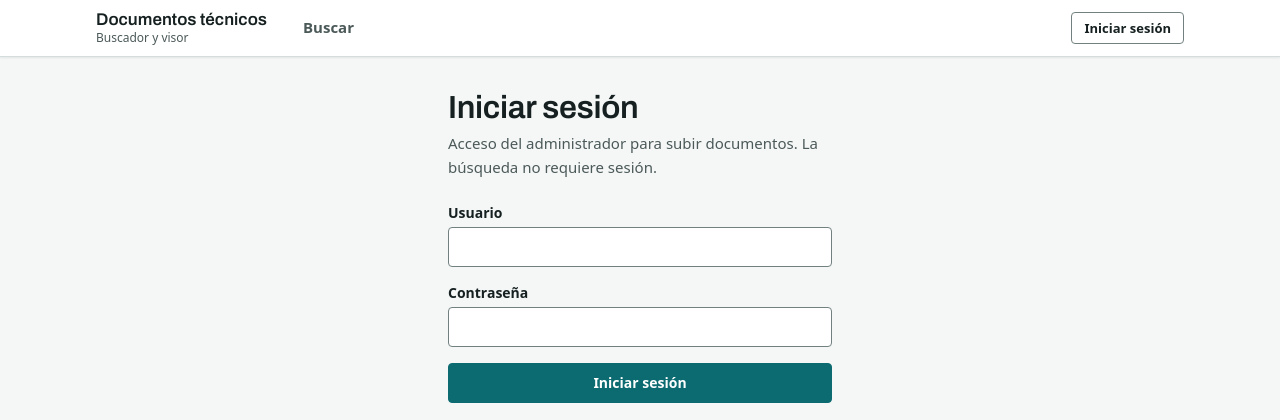
Test: Sesión del administrador › con credenciales correctas entra y vuelve a la página que pidió
Type "admin" into the field labelled "Usuario". click: (640, 247)
box: [448,227,832,267]
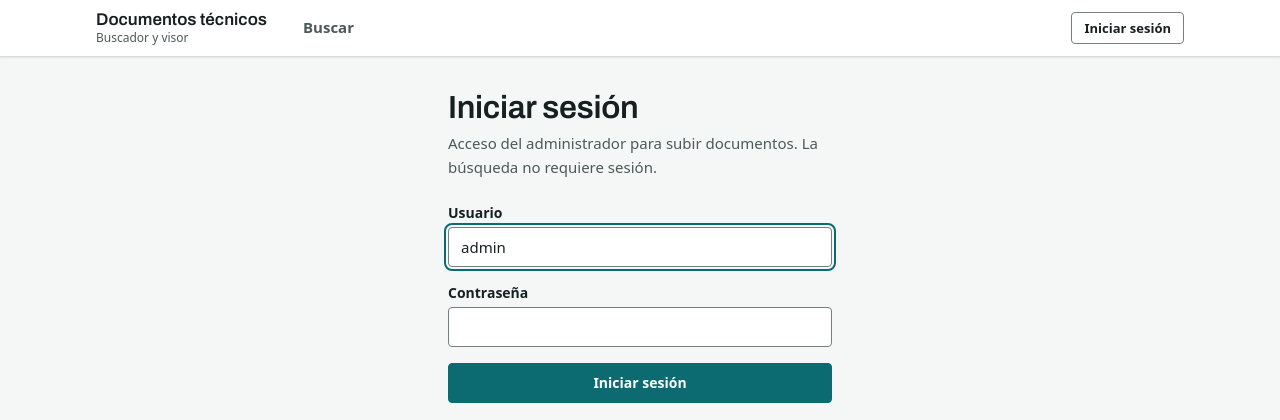
Type "clave-correcta" into the password field labelled "Contraseña". click: (640, 327)
box: [448,307,832,347]
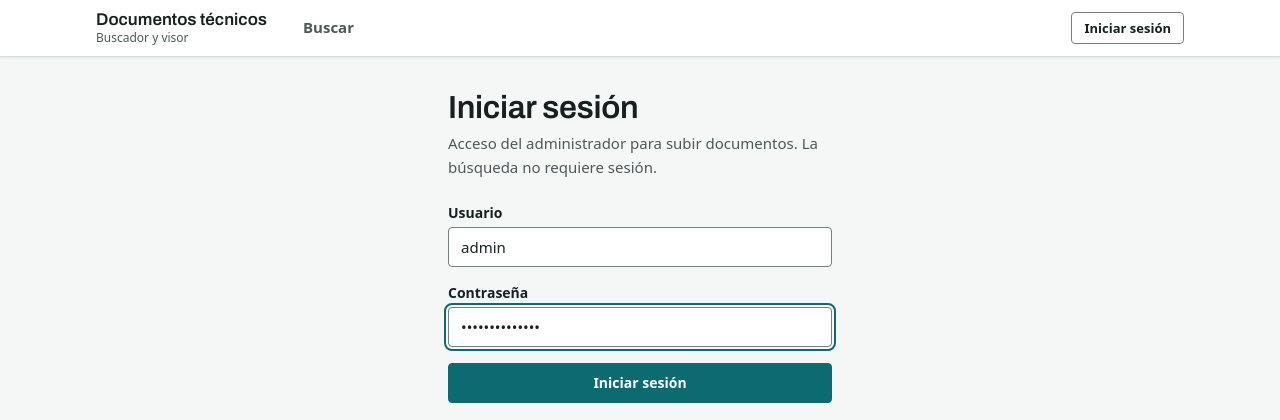
Click the button "Iniciar sesión". click: (640, 383)
box: [448,363,832,403]
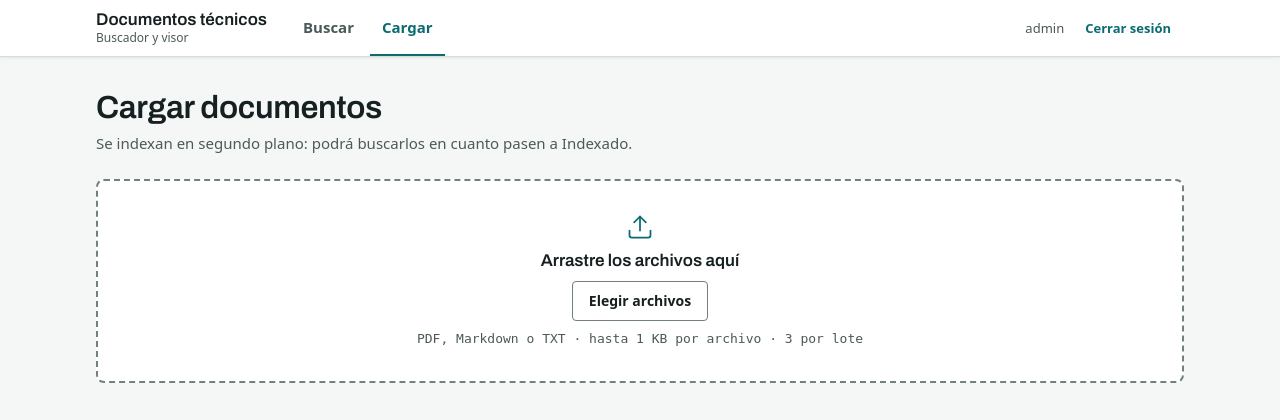
Expected: the text "admin" is shown, [1025,16,1064,40]
Expected: the heading "Cargar documentos" is shown, [96,90,382,125]
